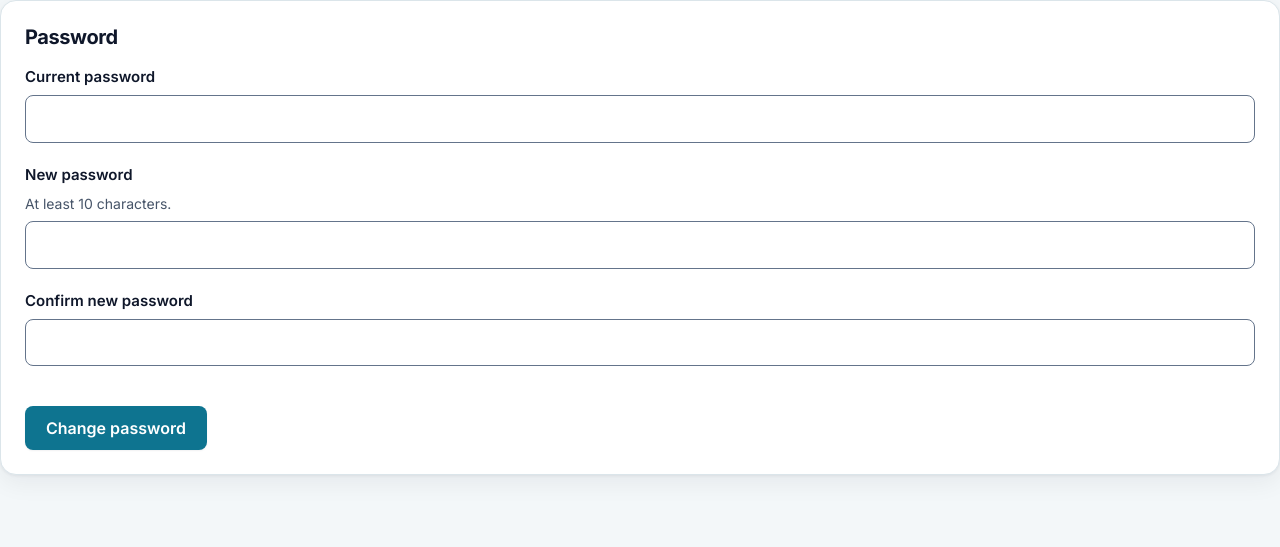
ChangePasswordForm › sends both passwords, confirms, and clears the form
In the password field labelled "Current password": (640, 119) [25, 95, 1255, 143], type "old-password"
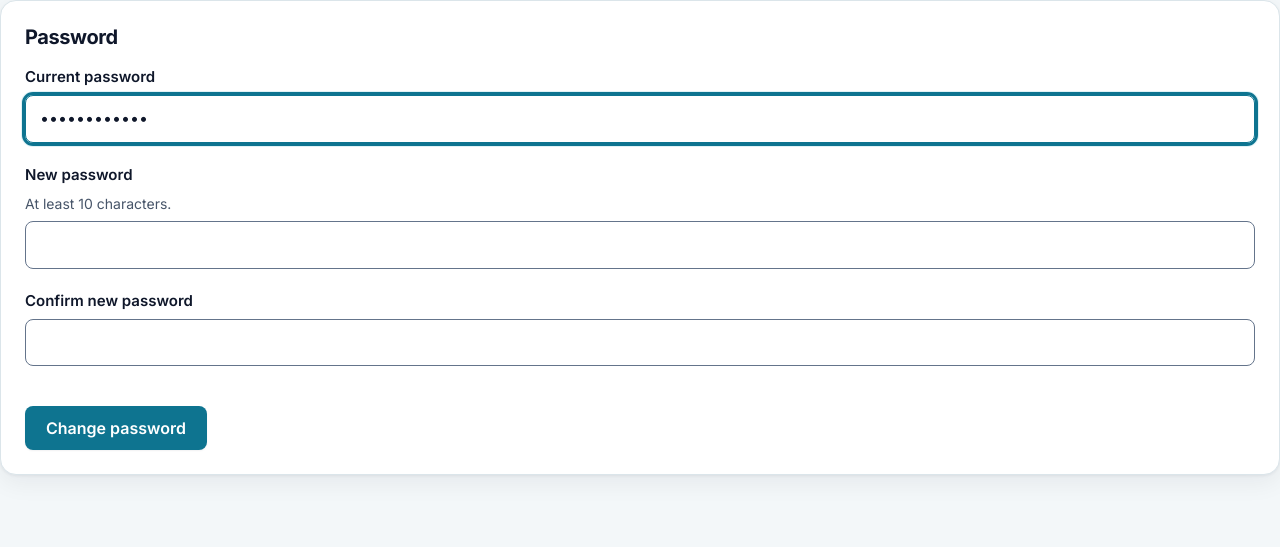
In the password field labelled "New password": (640, 245) [25, 221, 1255, 269], type "a-brand-new-password"
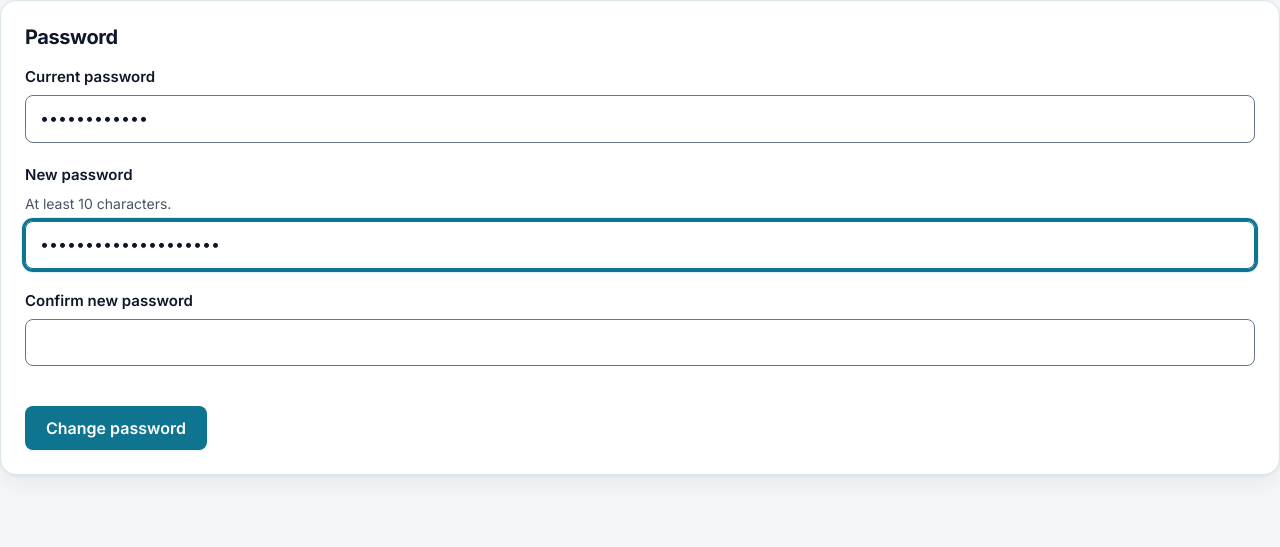
In the password field labelled "Confirm new password": (640, 342) [25, 319, 1255, 366], type "a-brand-new-password"
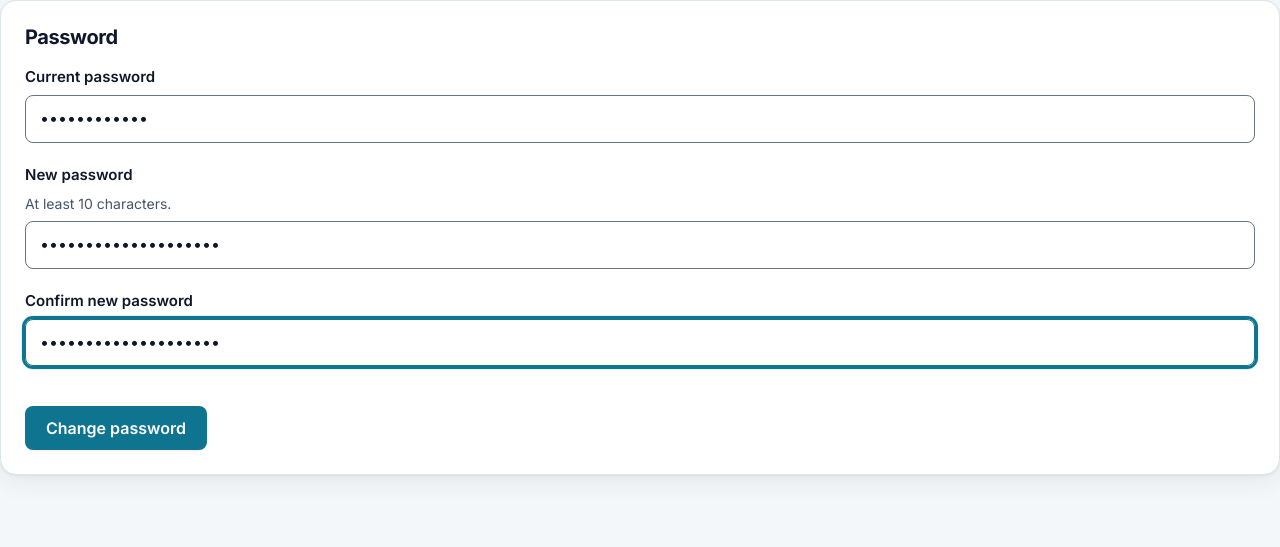
Click the button "Change password": click(116, 428) [25, 406, 207, 450]
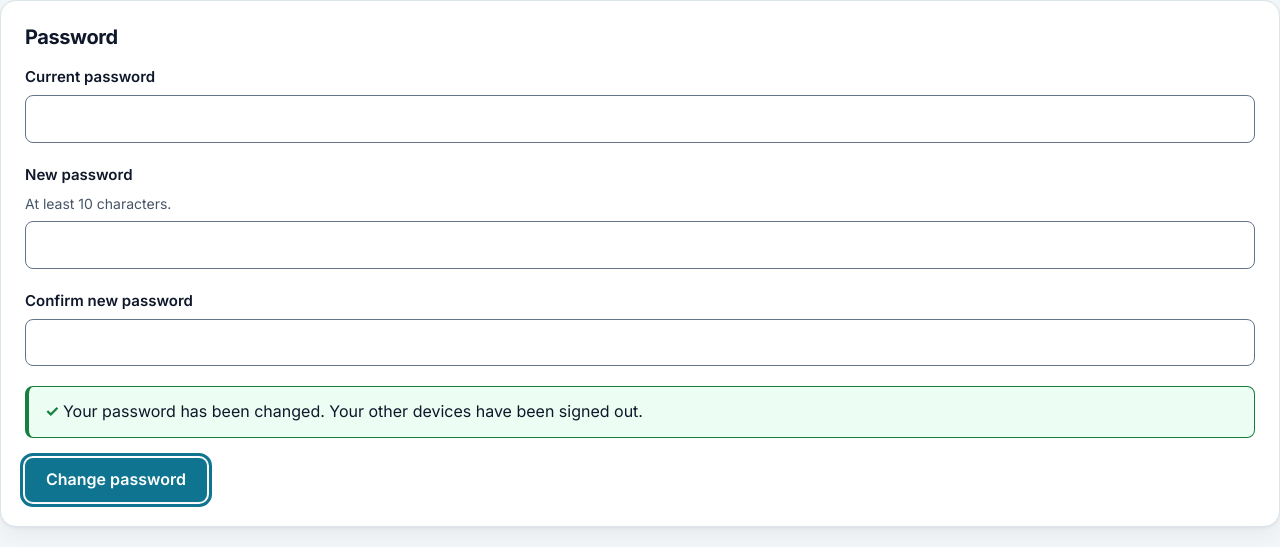
Now the message reads "Your password has been changed. Your other devices have been signed out.", box [63, 401, 643, 421]
Now the password field labelled "Current password" is empty, box [25, 95, 1255, 143]
Now the password field labelled "New password" is empty, box [25, 221, 1255, 269]
